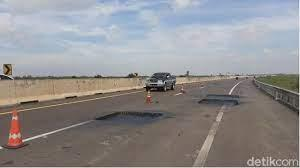Pothole: (90, 107, 171, 132), (195, 98, 252, 119), (193, 89, 246, 101)
